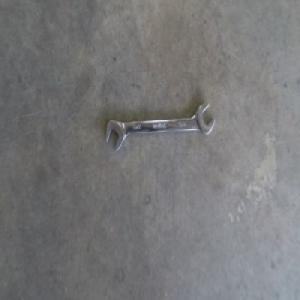Wrench: (107, 101, 217, 149)
